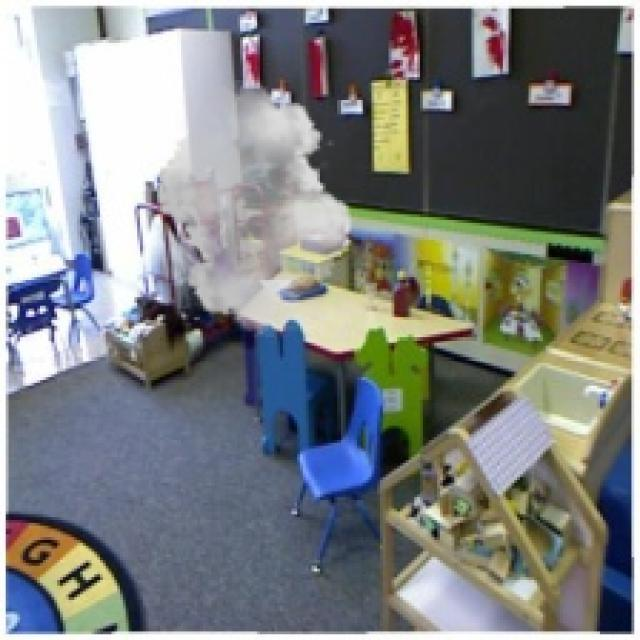Smoke: (148, 80, 360, 337)
